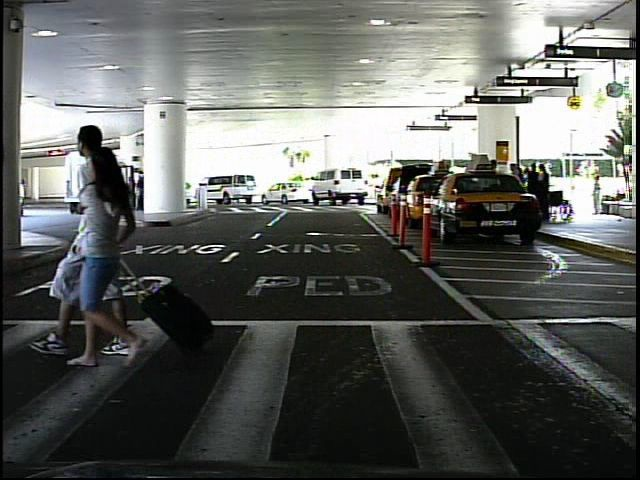person: (81, 137, 156, 375), (88, 116, 109, 363), (590, 172, 606, 218), (88, 170, 89, 220)
